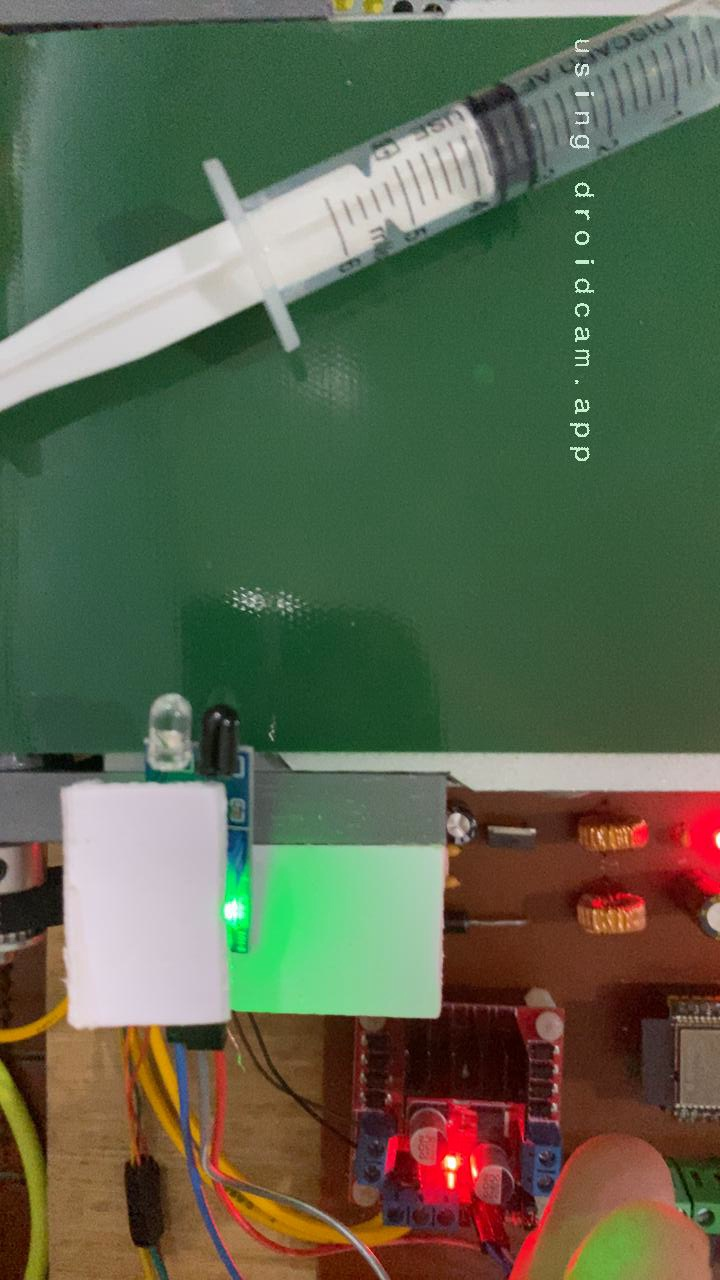syringe: (0, 20, 720, 419)
